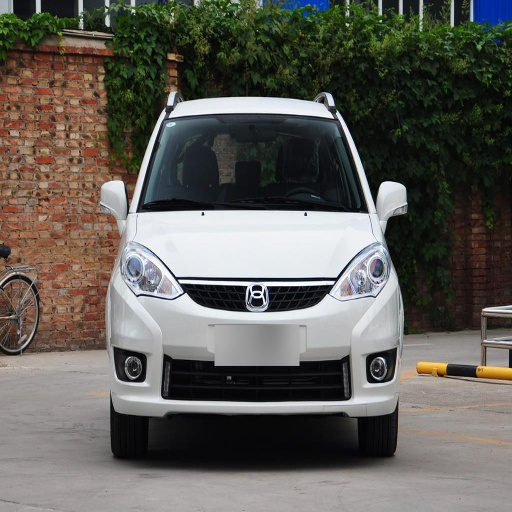front_bumper: (110, 277, 403, 416)
front_right_light: (118, 243, 181, 297)
hood: (135, 212, 376, 278)
